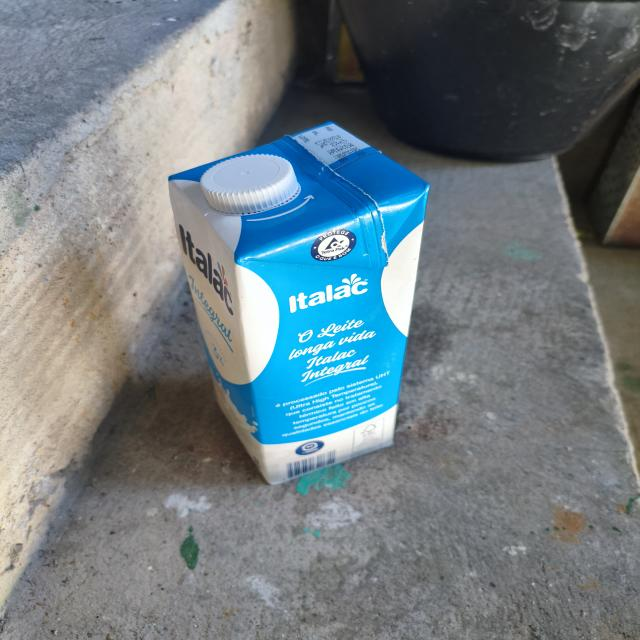Caixa de Leite: (140, 114, 457, 486)
